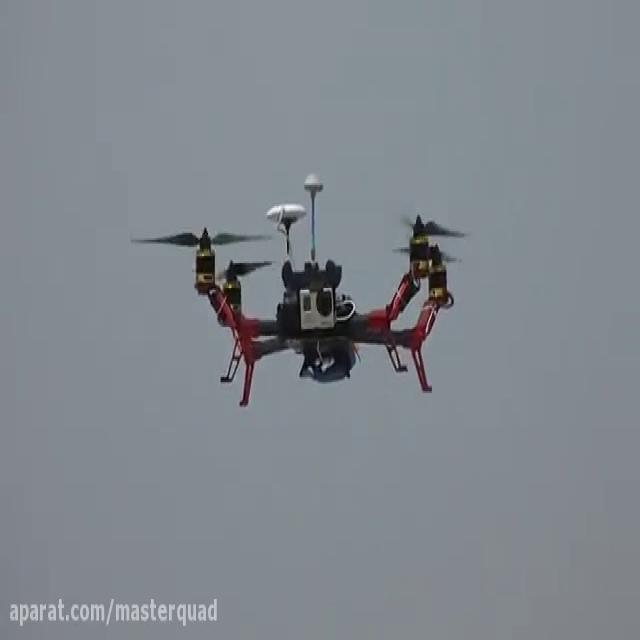drone: (126, 164, 476, 414)
